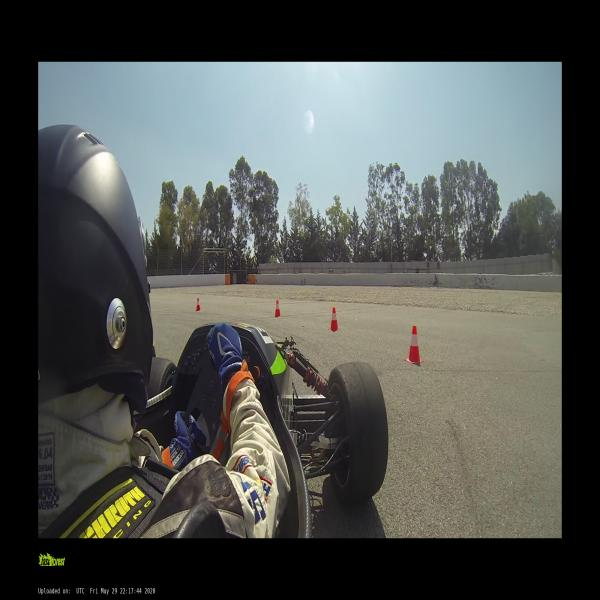orange_cone: (404, 326, 424, 364), (328, 307, 340, 331), (272, 300, 282, 318), (195, 298, 201, 311)
